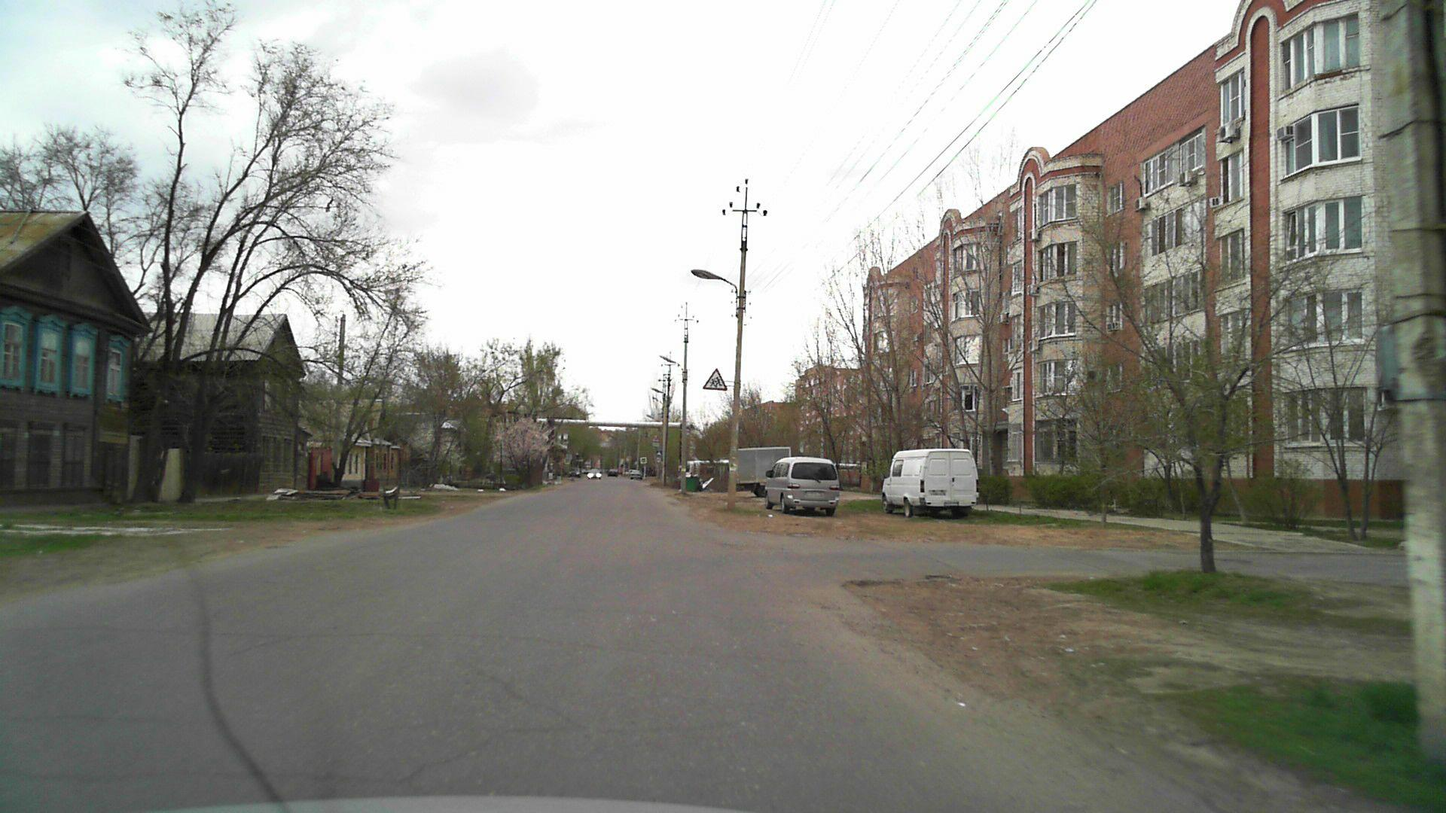road_sign: (700, 366, 730, 391)
